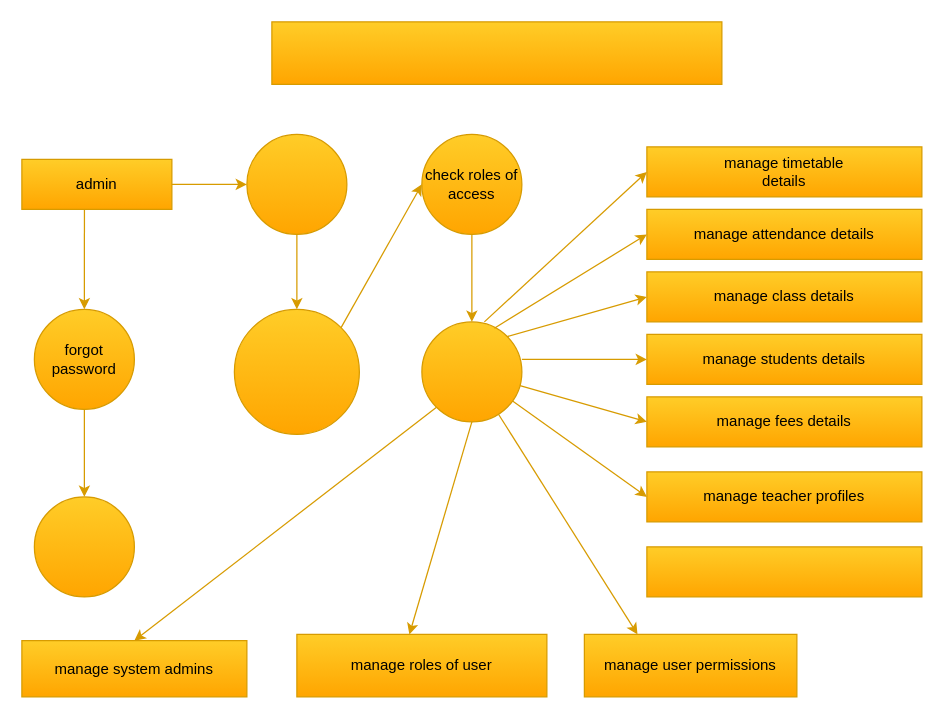
The diagram is 944 pixels wide and 719 high, and some of its shapes have lost their labels. The box of each missing label's shape, as (x1, y1, x2, y2) in pixels:
check crendentials: (233, 308, 359, 434)
login to system: (246, 133, 347, 234)
manage modules: (421, 321, 522, 422)
manage report: (646, 546, 922, 597)
send email to user: (33, 496, 134, 597)
student information system: (271, 21, 722, 84)
